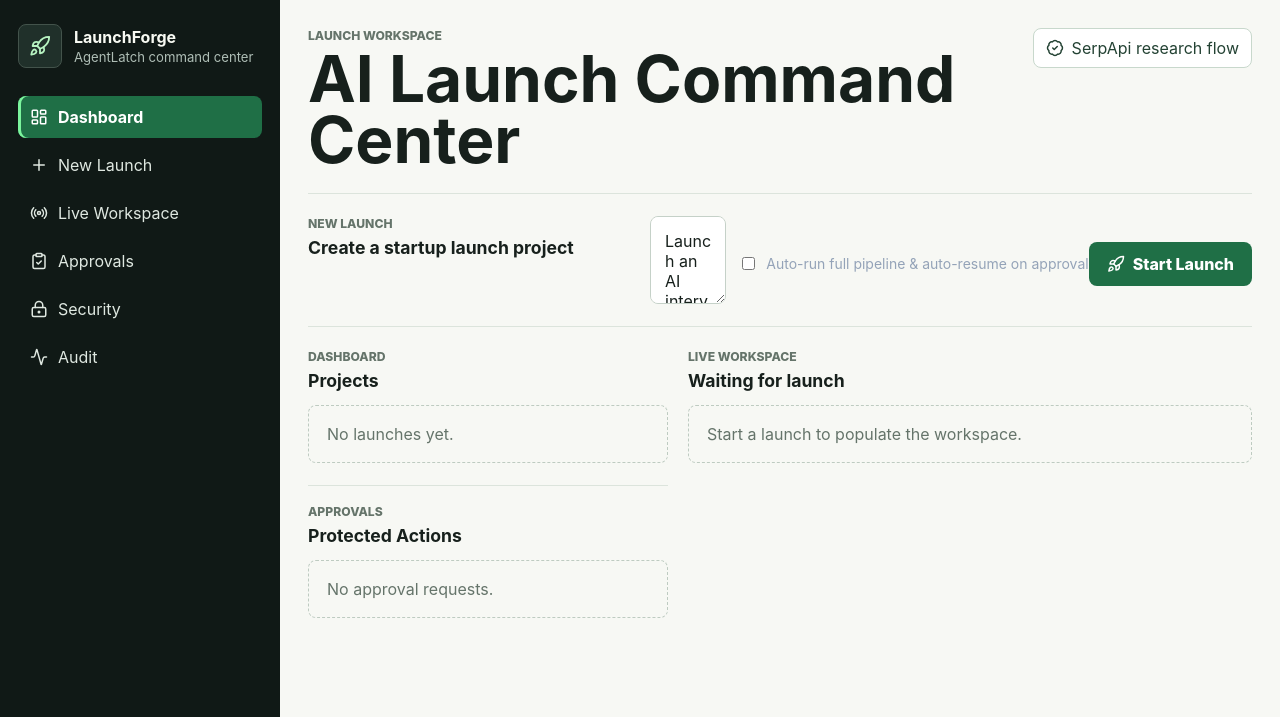
Test: LaunchForge web foundation › creates a launch project through the API
Click the button "Start Launch": (1170, 264) [1089,242,1252,286]
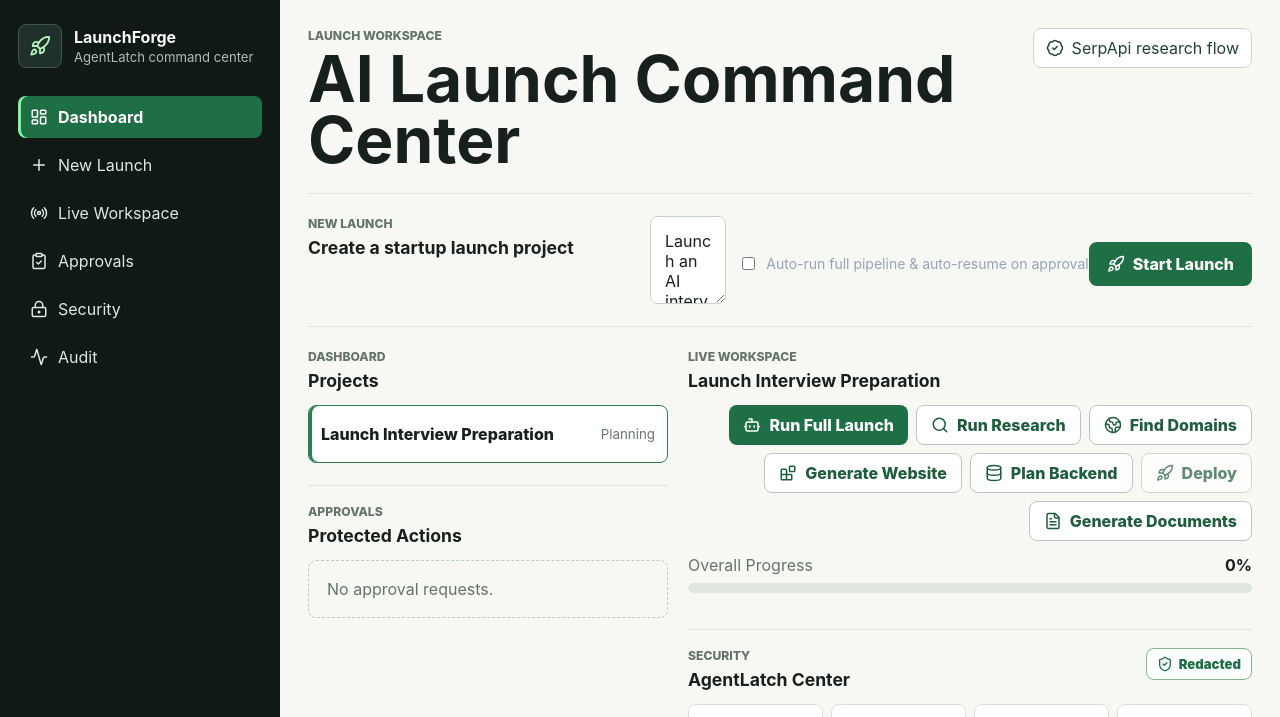
Result: the button "Launch Interview Preparation planning" is shown at [308,405,668,463]
